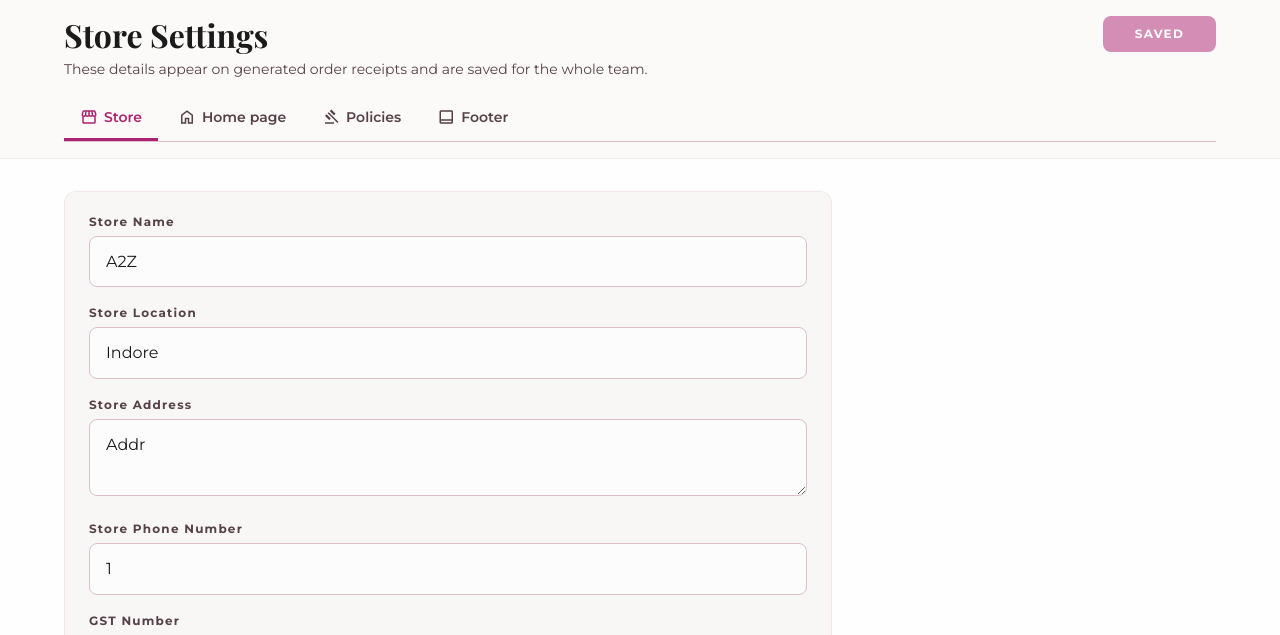
Scenario: Save button in the header › enables on an edit, shows the unsaved notice, and one Save stores edits from every tab
Replace the text in the field labelled "Store Name" with "A2Z Renamed": (448, 262) [89,236,807,287]
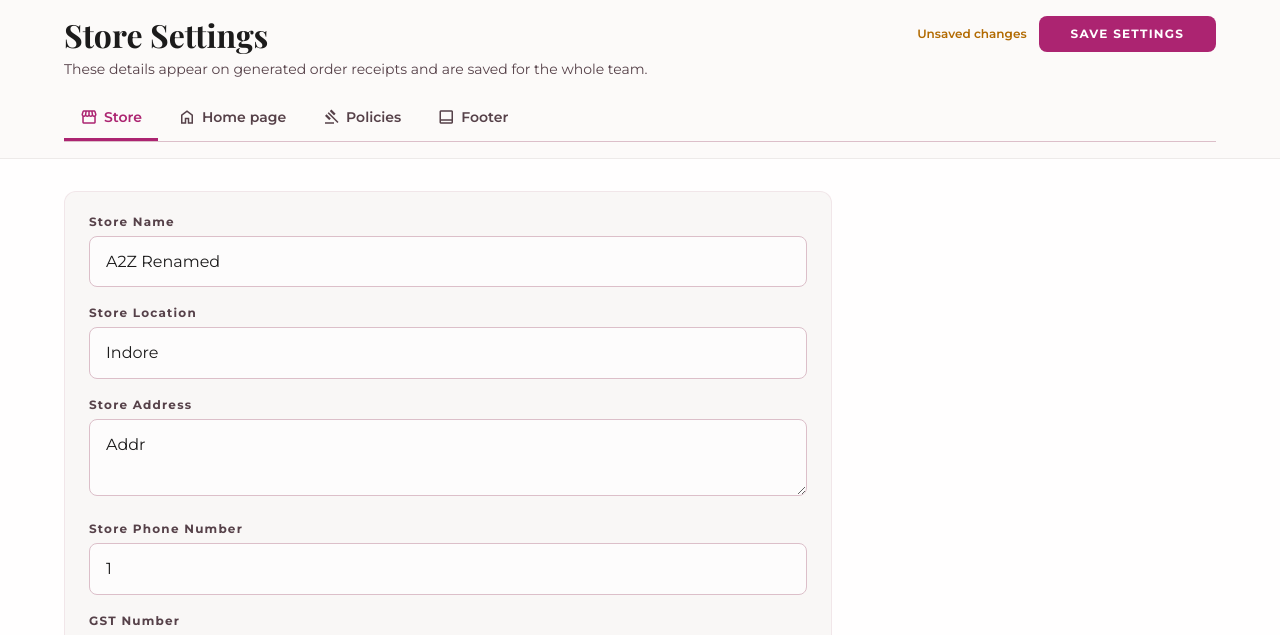
Click the tab "Footer": click(473, 119) [421,97,524,141]
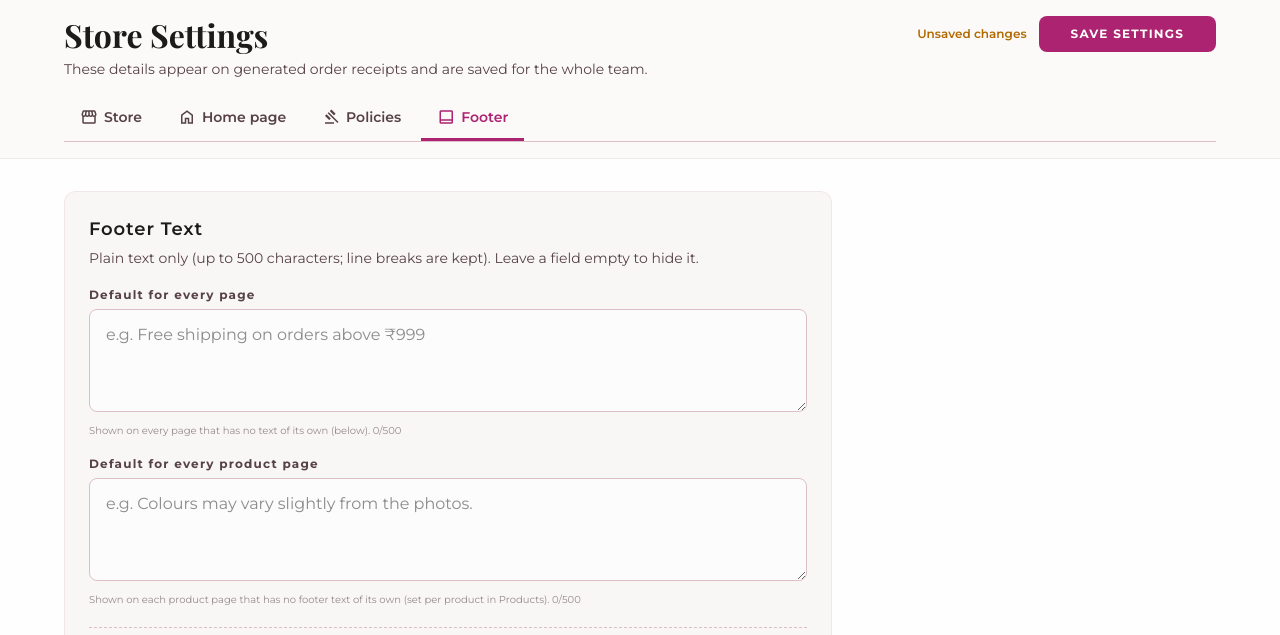
In the text box labelled "Default for every page": (448, 361) [89,309,807,412], type "Free shipping"
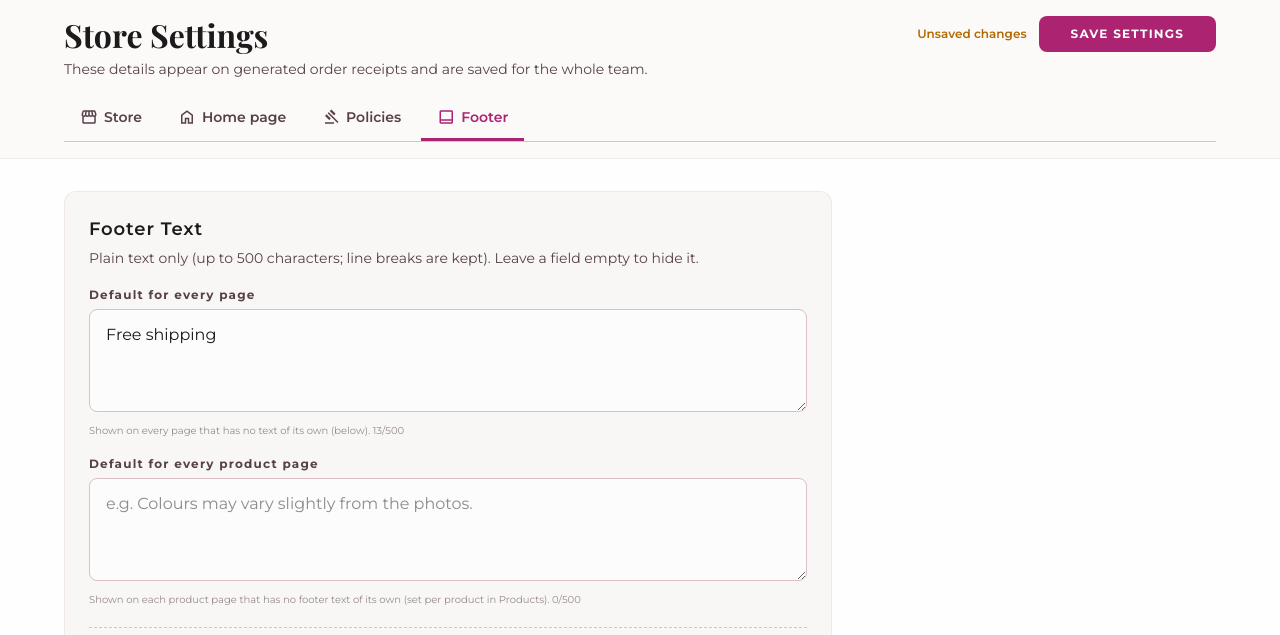
Click the tab "Policies": click(362, 119) [306,97,417,141]
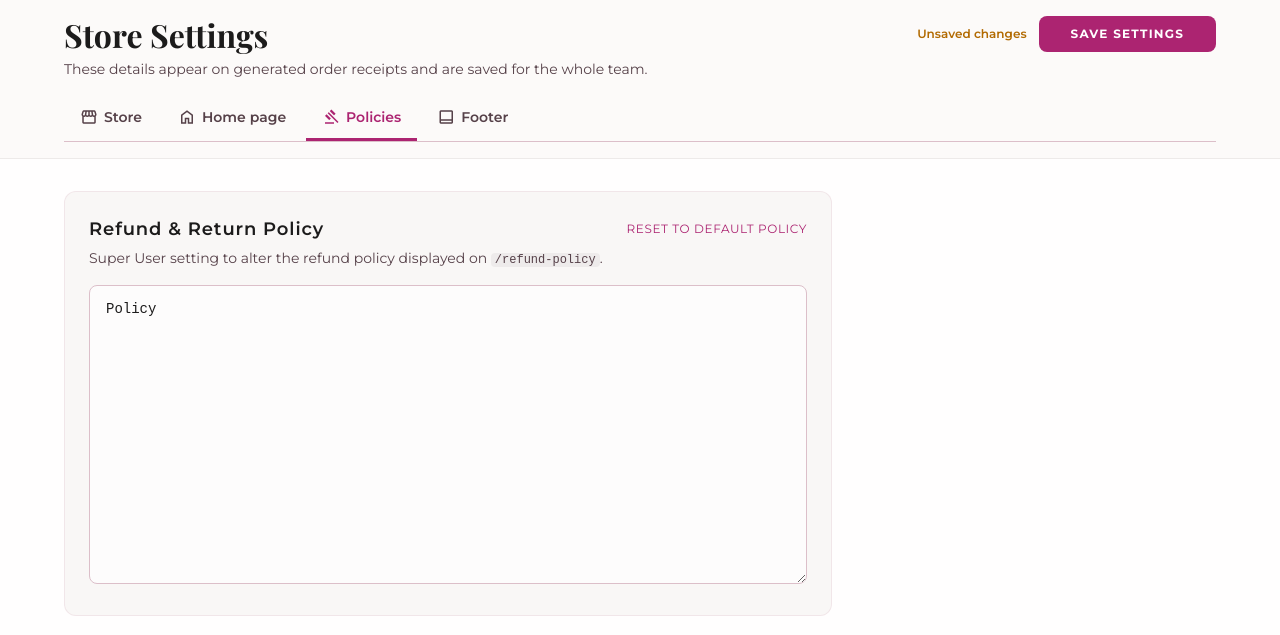
Now the text "Unsaved changes" is shown, box [917,25,1026,43]
Click the button "Save Settings": click(1127, 34) [1039,16,1216,52]
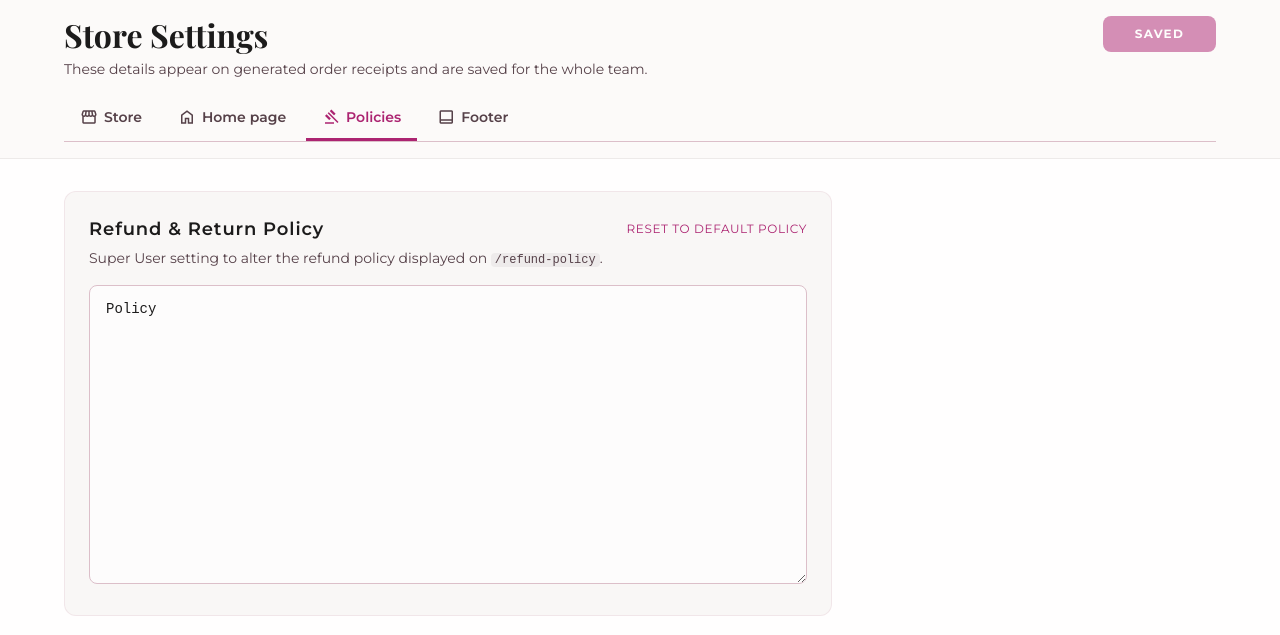
Now the button "Saved" is disabled, box [1103,16,1216,52]
